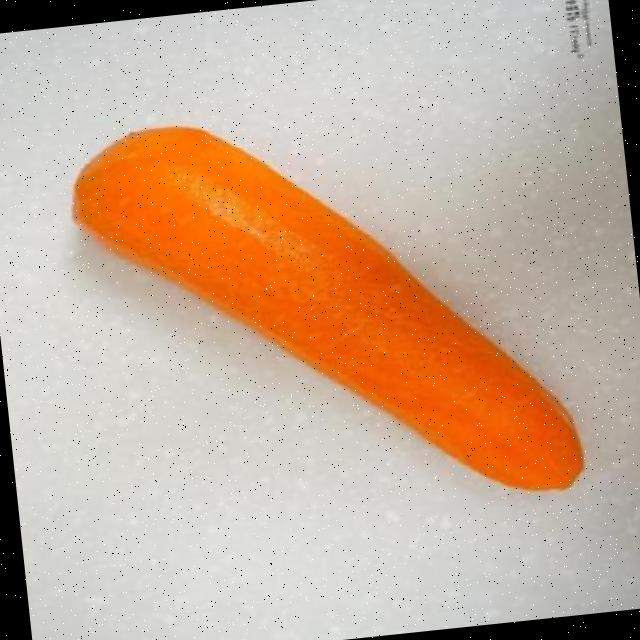carrot: (73, 127, 582, 488)
